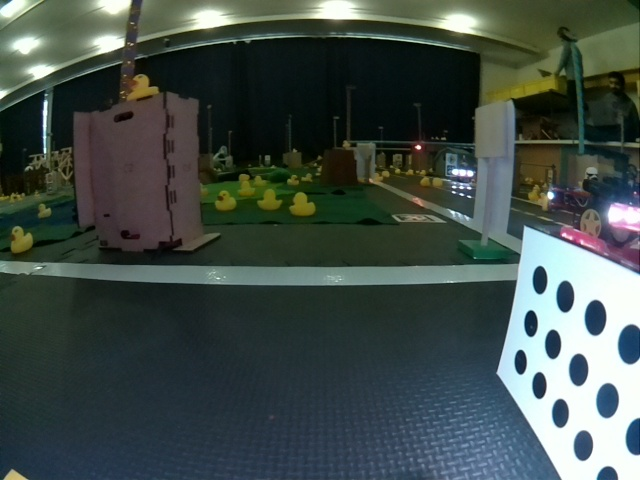Duckie: (127, 74, 159, 100), (9, 226, 31, 253), (292, 194, 315, 215), (257, 192, 281, 210), (215, 190, 236, 210), (239, 183, 253, 196), (37, 203, 51, 216), (303, 172, 313, 182), (287, 175, 296, 185), (421, 178, 431, 186), (343, 140, 351, 149), (375, 173, 380, 181)
Duckiebot: (495, 224, 639, 478), (565, 177, 639, 245)
